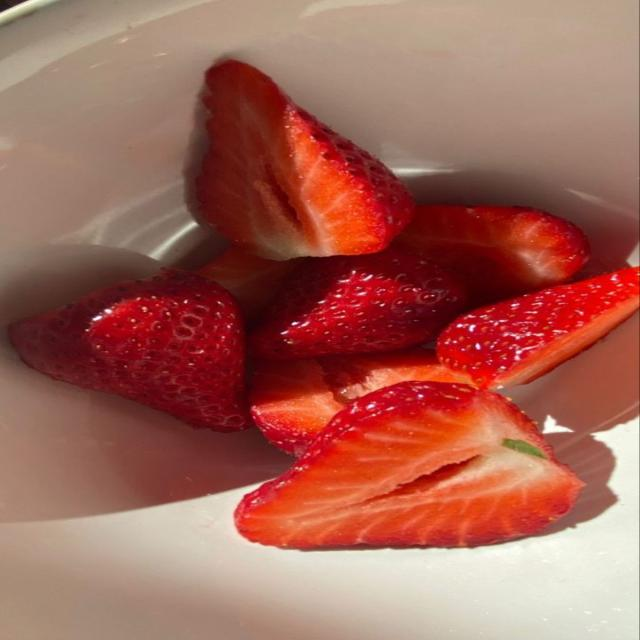strawberry sliced: (236, 382, 583, 548), (198, 60, 413, 259), (10, 270, 251, 431), (437, 267, 639, 388), (250, 248, 465, 359), (251, 348, 470, 455), (398, 206, 589, 302), (250, 359, 344, 455), (319, 348, 472, 402), (199, 246, 299, 317)
